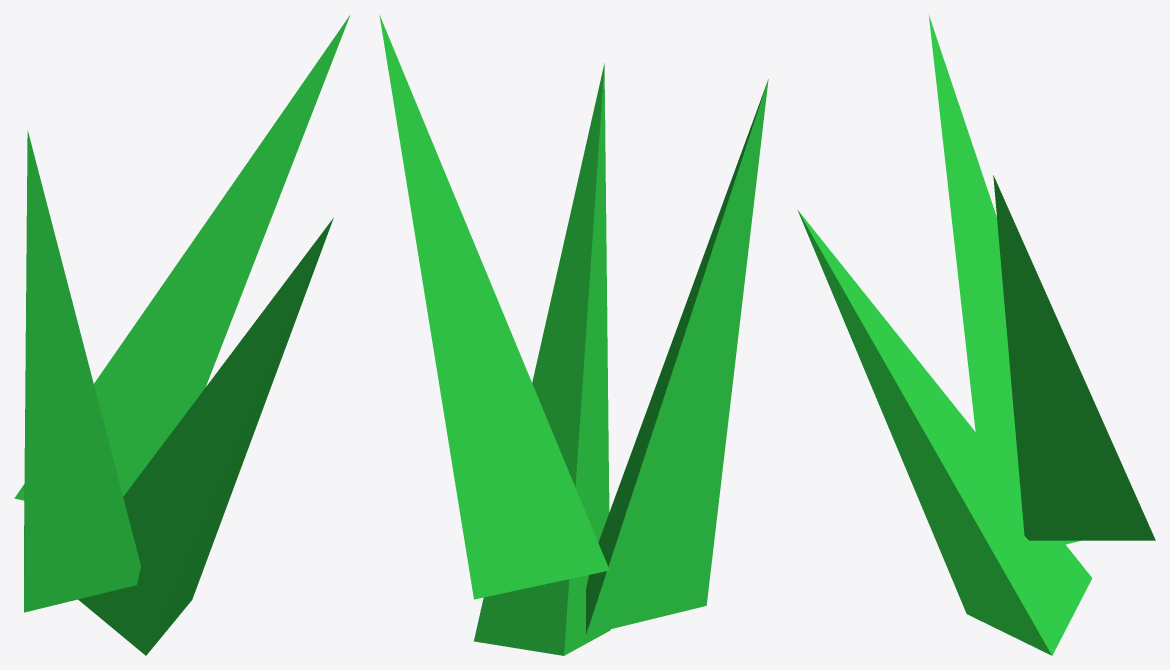
File: grass.fbx
3 renders of one model, left to right at view 1: azimuth 30°, elevation 25°; view 2: azimuth 150°, elevation 25°; view 3: azimuth 270°, elevation 25°, orthographic. The views are drawn at different scales.
Parts seen in each view (by area): view 1: Cone.001, Cone, Cone.002; view 2: Cone, Cone.001, Cone.002; view 3: Cone.002, Cone, Cone.001.
Boxes of the visible parts, x1,y1,x2,y2 form: Cone.001: (24, 130, 140, 612); Cone: (14, 15, 349, 500); Cone.002: (78, 218, 333, 655); Cone: (379, 15, 609, 599); Cone.001: (586, 79, 768, 635); Cone.002: (474, 63, 610, 655); Cone.002: (797, 209, 1092, 655); Cone: (993, 175, 1155, 540); Cone.001: (928, 15, 1080, 544).
Bounding box in the file's own units: 67.63 × 104 × 62.97.
